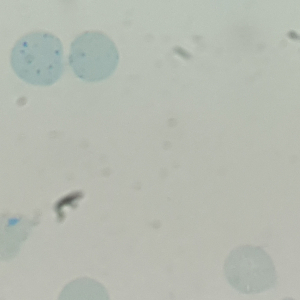erythrocyte: (222, 243, 279, 295)
punctate reticulocyte: (9, 30, 66, 88), (66, 29, 120, 84)
